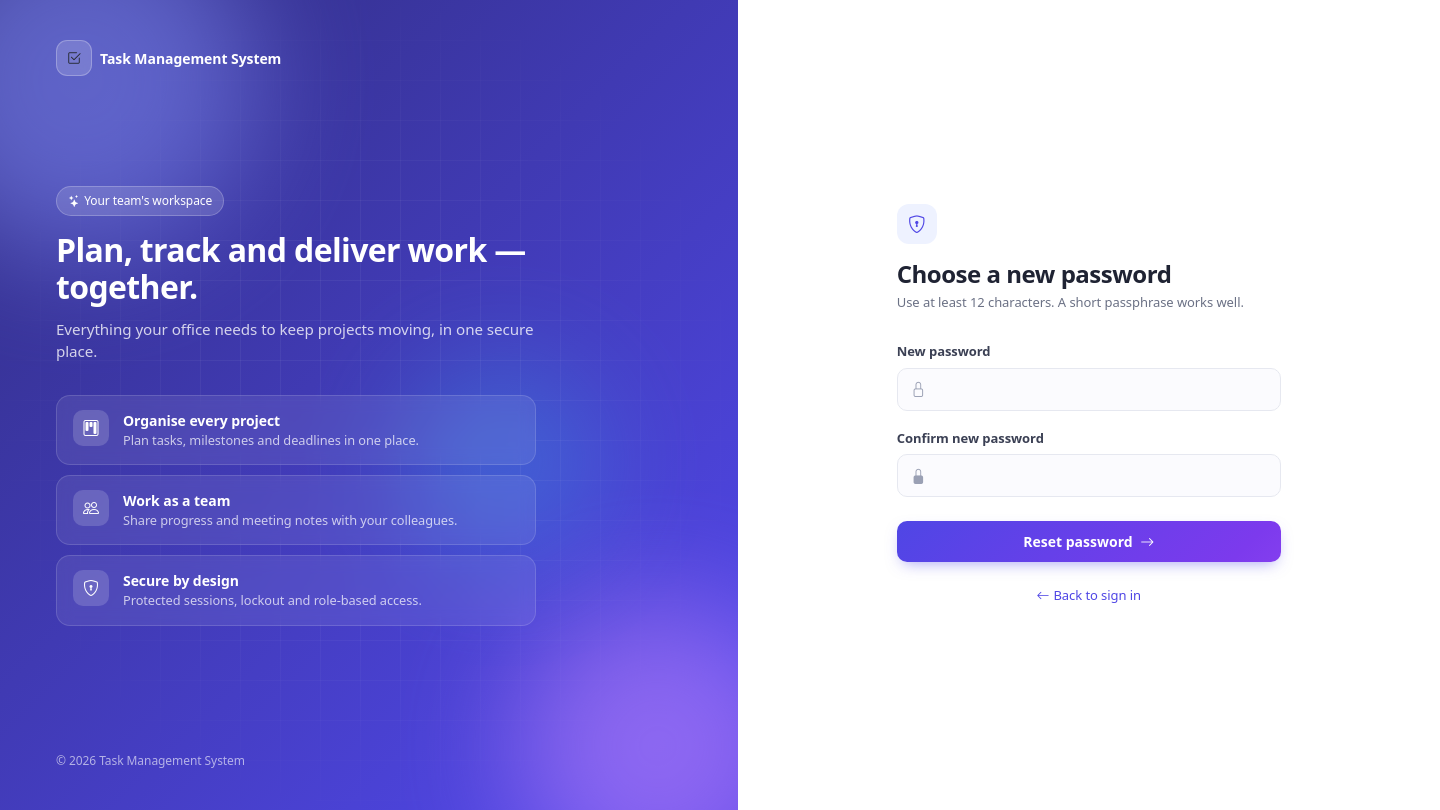
ResetPasswordComponent › requires matching passwords before submitting
Type "a long enough passphrase" into the password field with id "newPassword" at (1089, 389), box [897,368,1281,411]
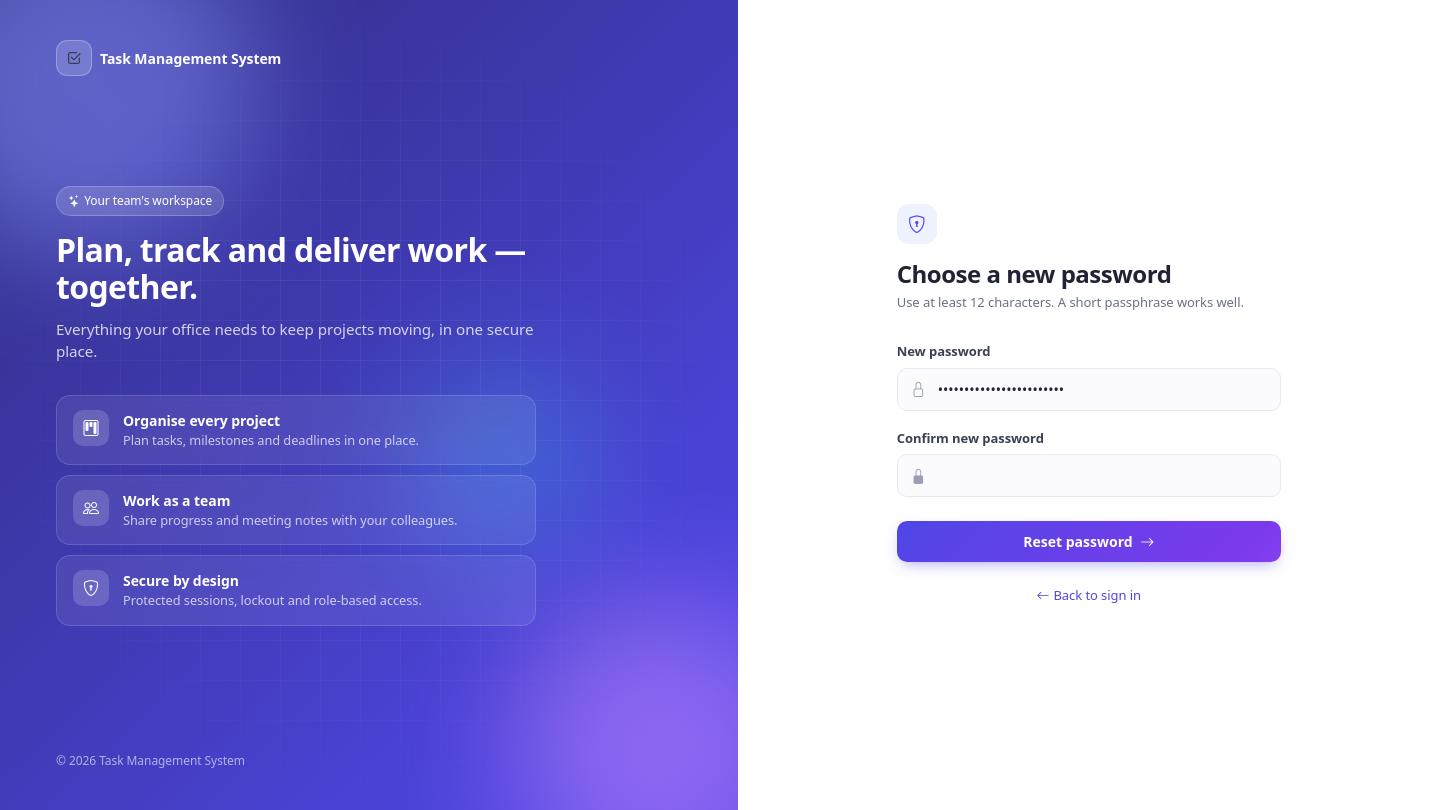
Type "something else entirely" into the password field with id "confirmNewPassword" at (1089, 476), box [897,454,1281,497]
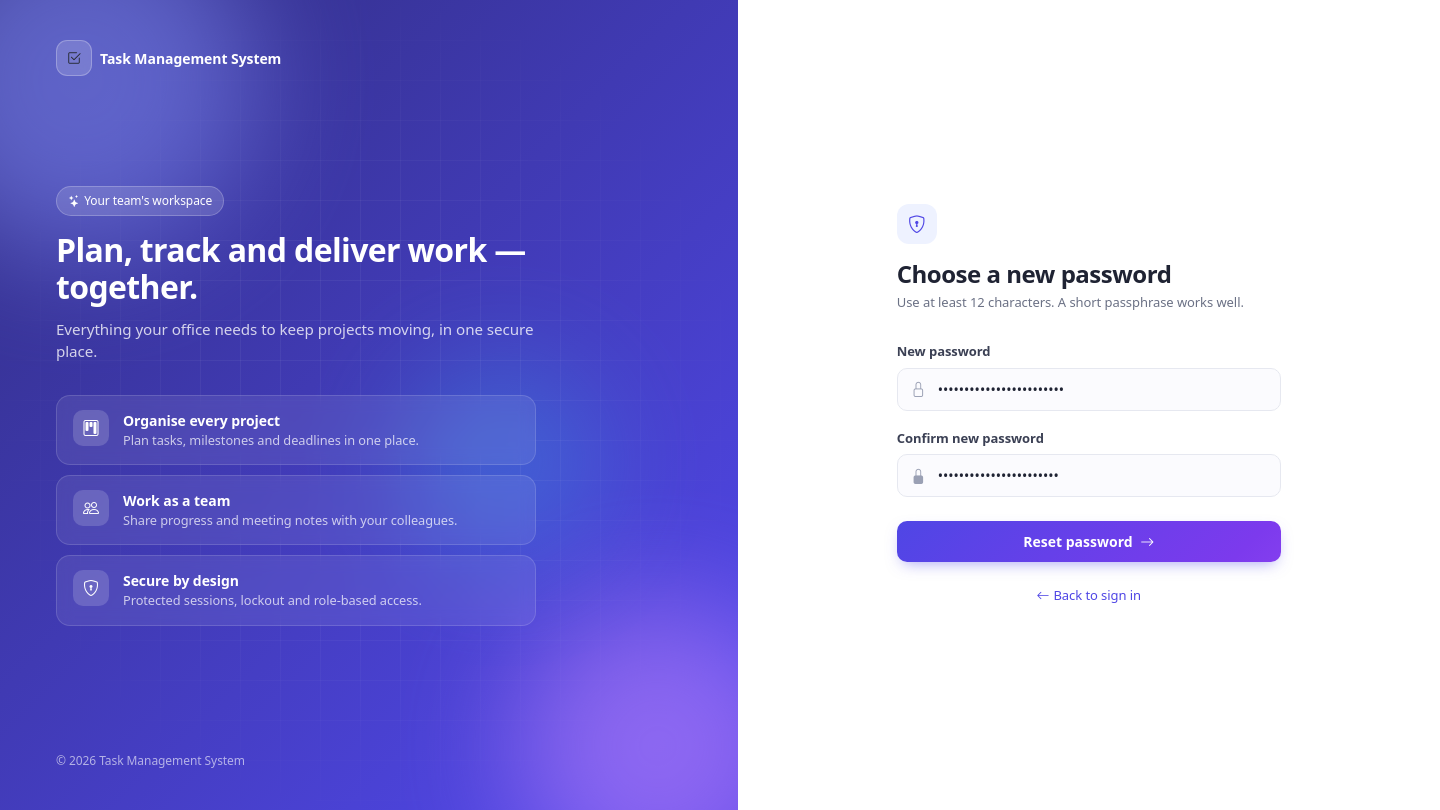
Submit the form, box [897,340,1281,562]
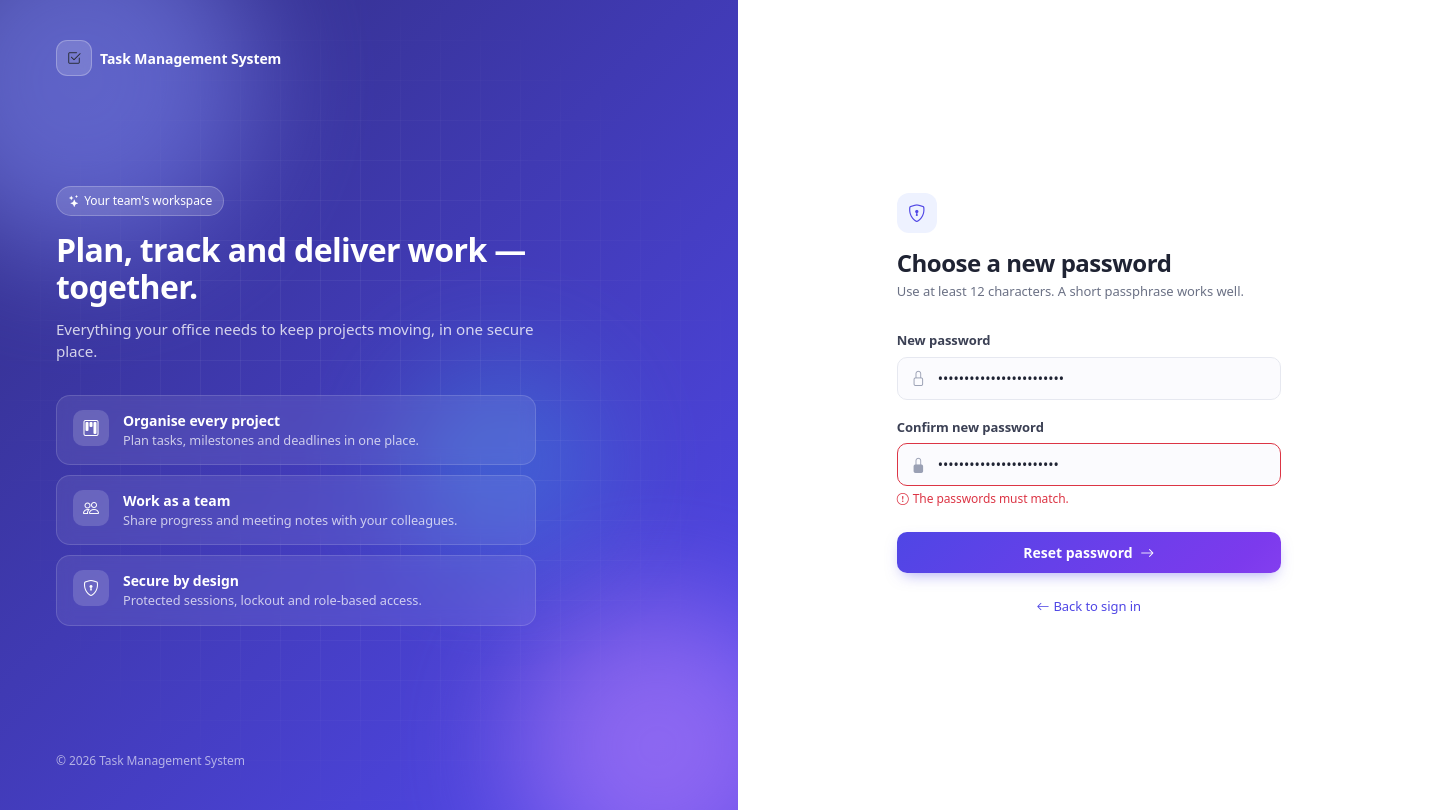
Now the text "The passwords must match." is shown, box [897,490,1069,507]
